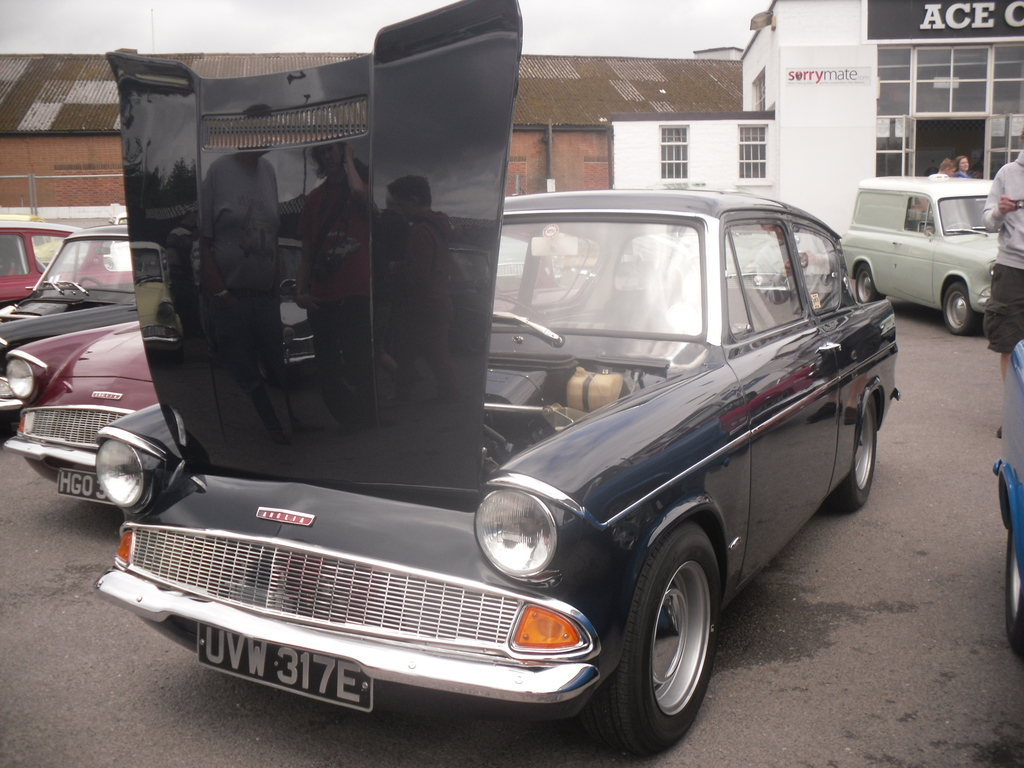mobil: (92, 186, 909, 747)
